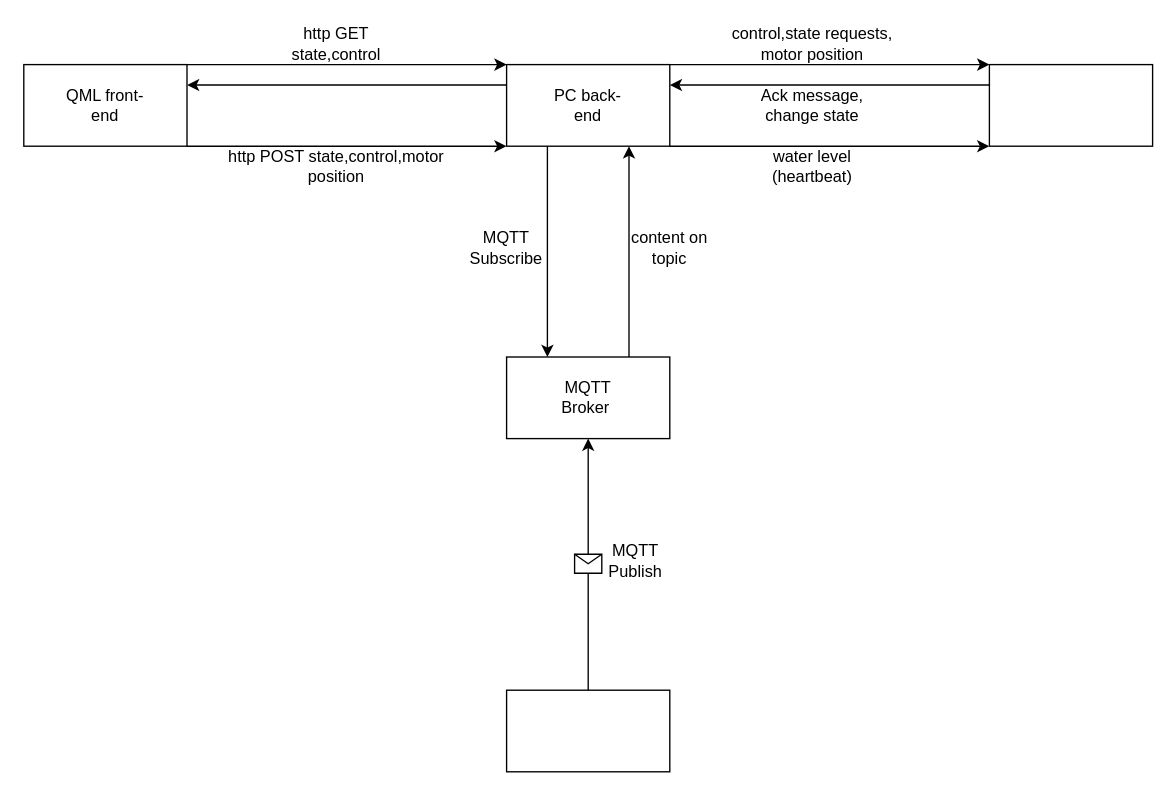
The diagram is 1176 pixels wide and 796 high, and some of its shapes have lost their labels. The centre of each missing label's shape, as x and y in pixels:
"ESP32" goes at (587,730).
"Uno" goes at (1070,104).
